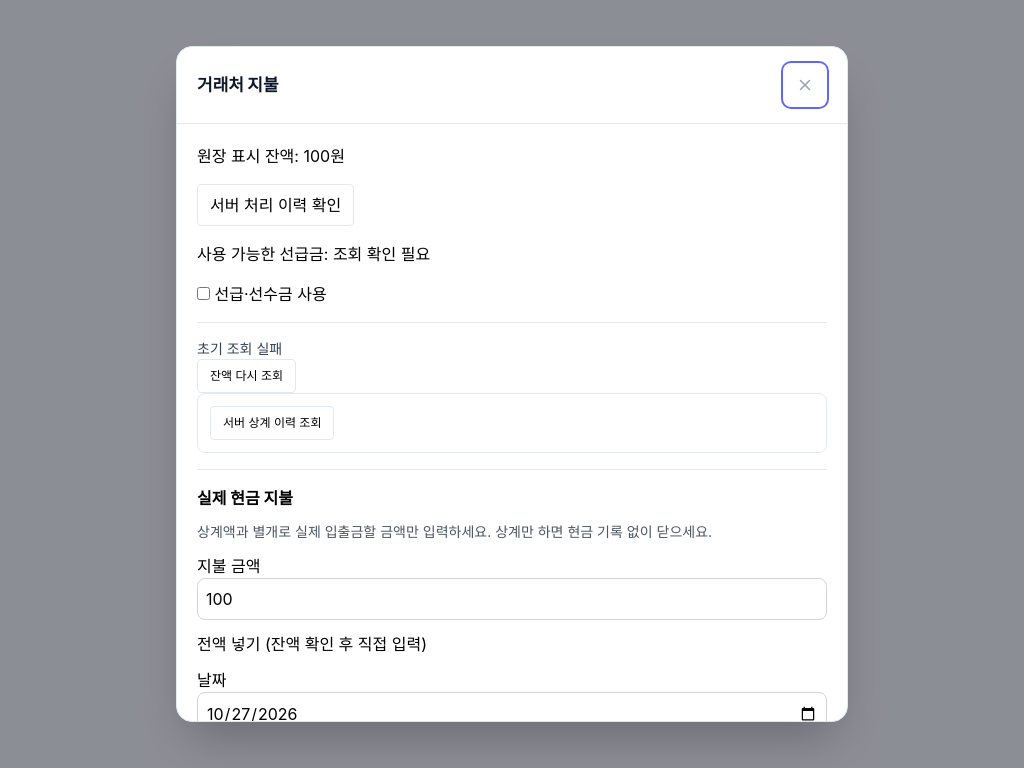
Scenario: 첫잔액조회실패시이전요청유무를추측하지않고현금차단·조회만재시도
Click the checkbox labelled "선급·선수금 사용".
click(204, 294)  # box [197,287,210,300]
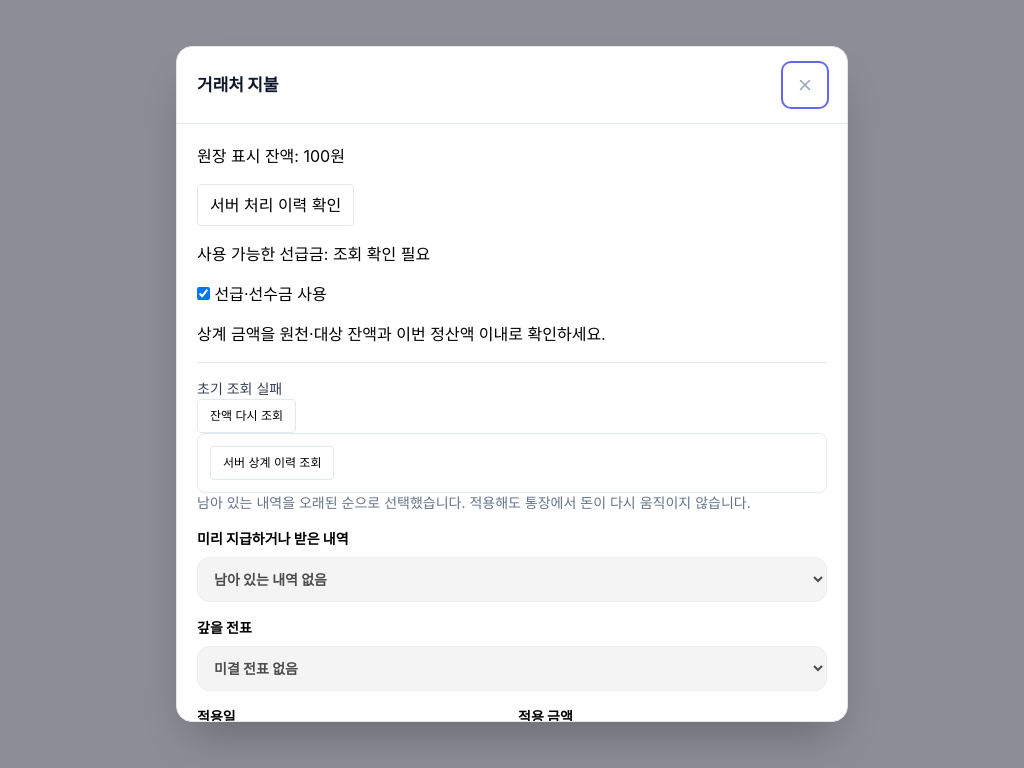
Expected: the text "초기 조회 실패" is shown, [197,380,282,397]
Click the button "잔액 다시 조회".
click(246, 416)  # box [197,399,296,433]
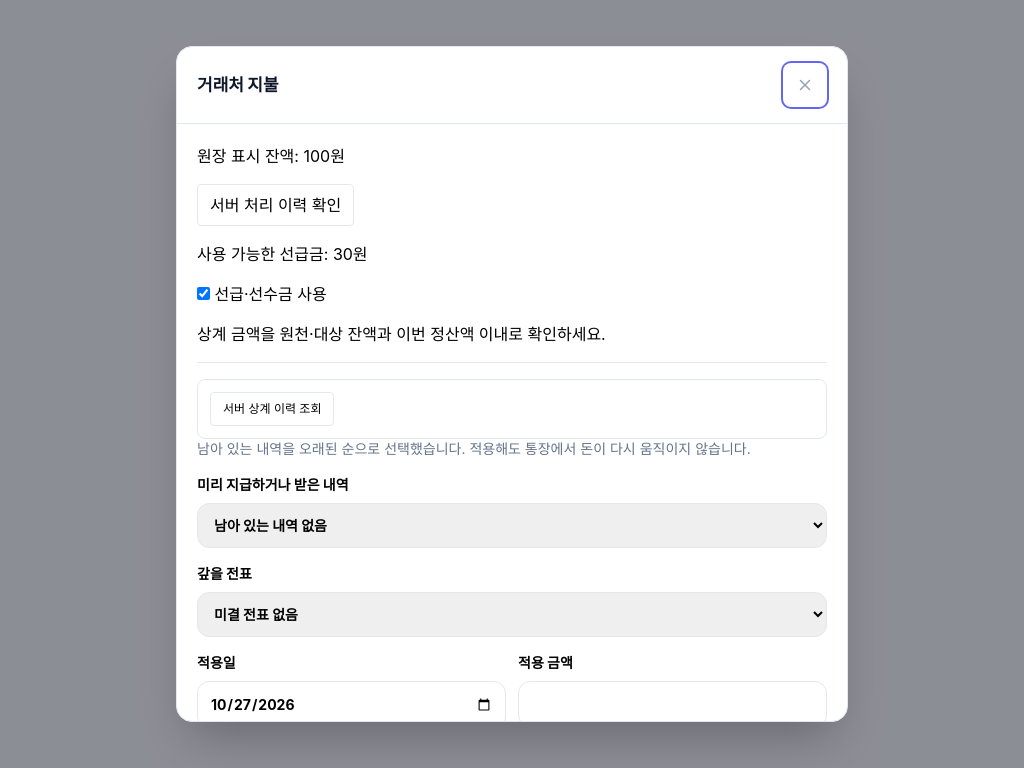
Now the text "초기 조회 실패" is gone
